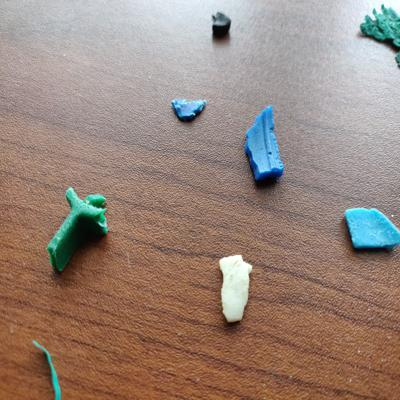plastic: (43, 179, 112, 276), (241, 101, 287, 190), (355, 1, 400, 72), (341, 202, 400, 255), (216, 249, 257, 325), (27, 336, 72, 400), (169, 89, 210, 127), (208, 5, 234, 42)
